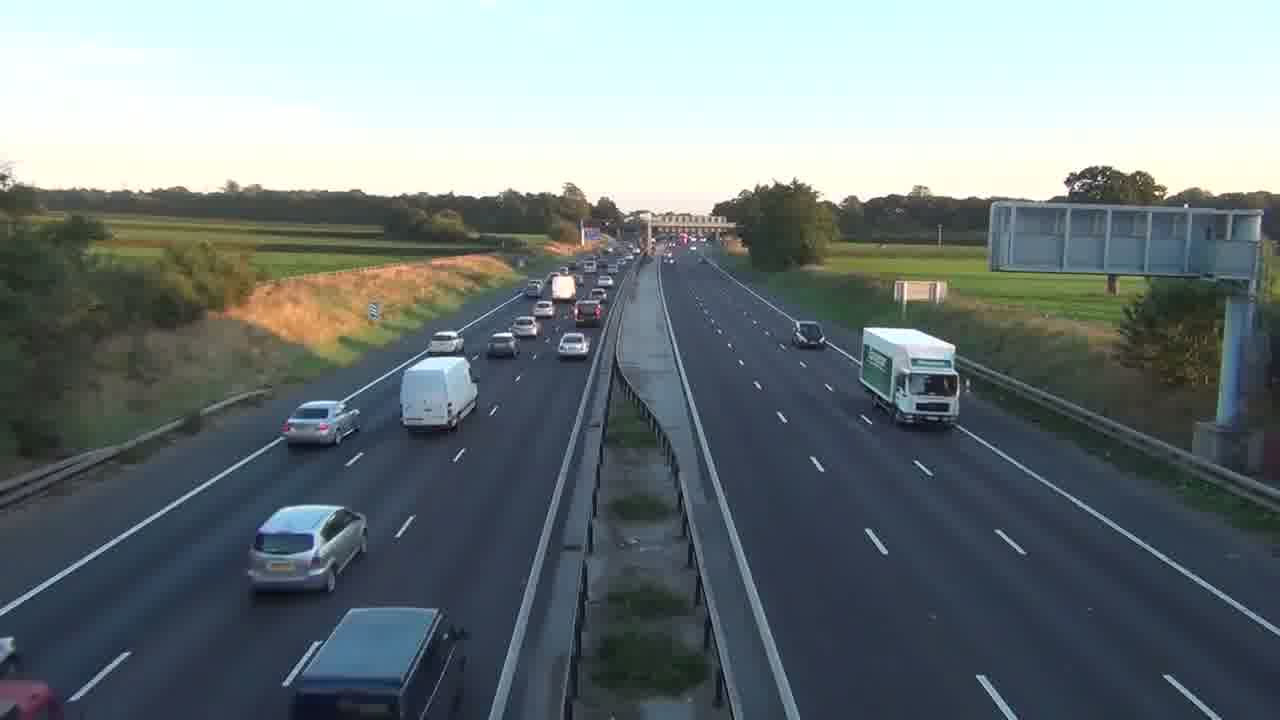bus: (859, 326, 962, 428)
car: (282, 605, 469, 717), (245, 503, 369, 596), (281, 399, 361, 447), (557, 331, 590, 361), (429, 329, 463, 356), (487, 331, 518, 358)
truck: (282, 605, 469, 717), (400, 355, 479, 433)
